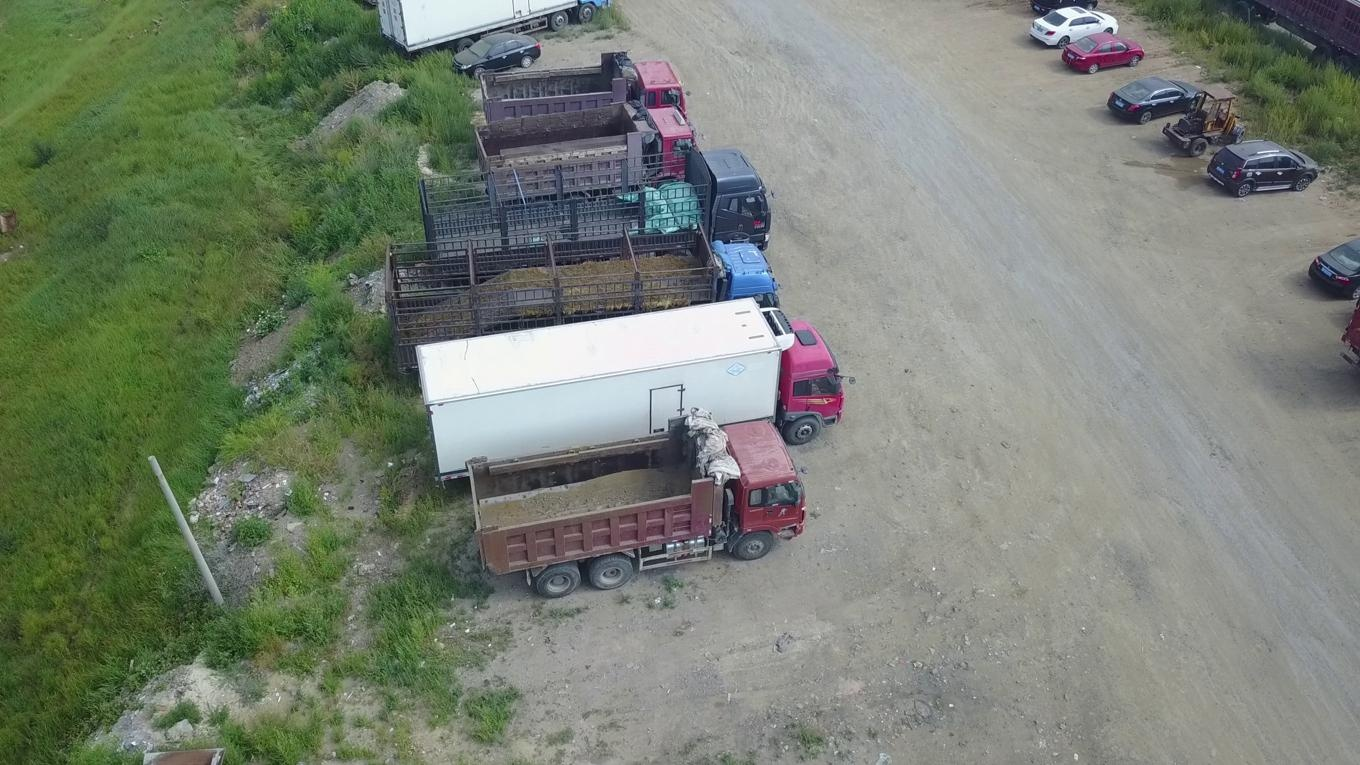car: (1208, 139, 1320, 197), (1107, 76, 1206, 125), (450, 32, 540, 79), (1030, 6, 1118, 48), (1061, 31, 1145, 74)
truck: (413, 296, 856, 503), (386, 221, 782, 396), (466, 409, 805, 597), (415, 146, 776, 285), (474, 99, 706, 211), (478, 50, 687, 152), (376, 0, 612, 52)
